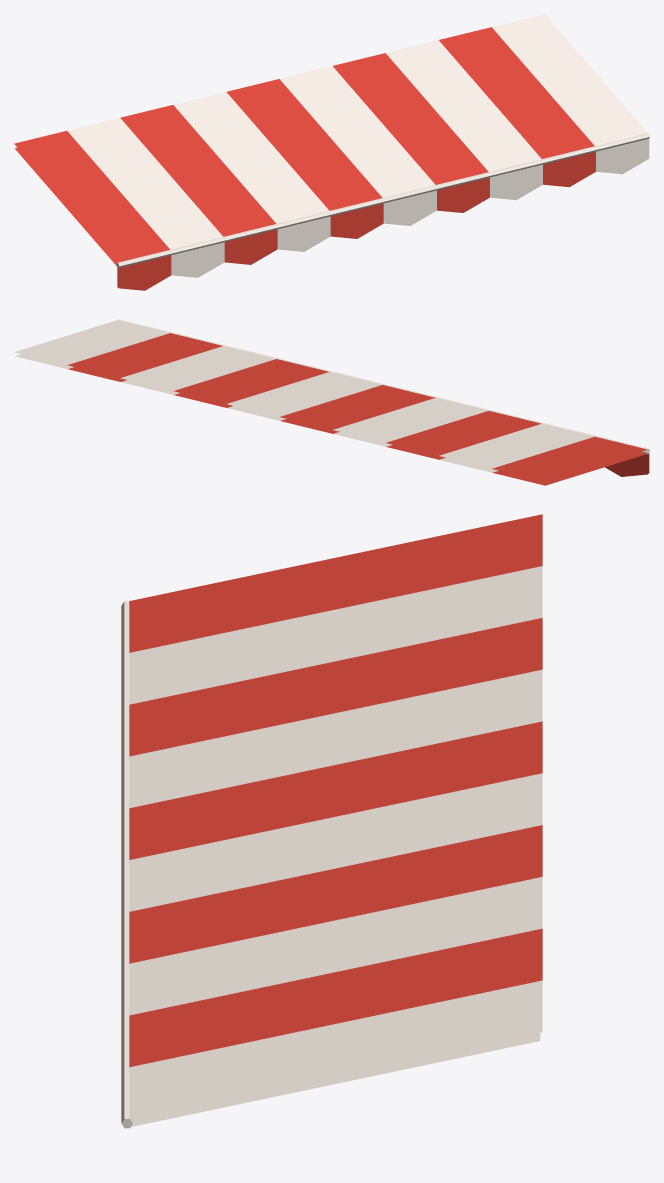
Rendered from striped-awning.glb.
The picture shows the model from 3 angles, top to bottom: view 1: azimuth 30°, elevation 25°; view 2: azimuth 150°, elevation 25°; view 3: azimuth 270°, elevation 25°; orthographic projection. The views are drawn at different scales.
Parts seen in each view (by area): view 1: striped-awning; view 2: striped-awning; view 3: striped-awning.
Part boxes in pixels (left/top/right/bottom): striped-awning: left=14, top=14, right=649, bottom=290; striped-awning: left=14, top=319, right=649, bottom=485; striped-awning: left=121, top=514, right=542, bottom=1128.
Bounding box in the file's own units: 7.4 × 1.03 × 2.54.
